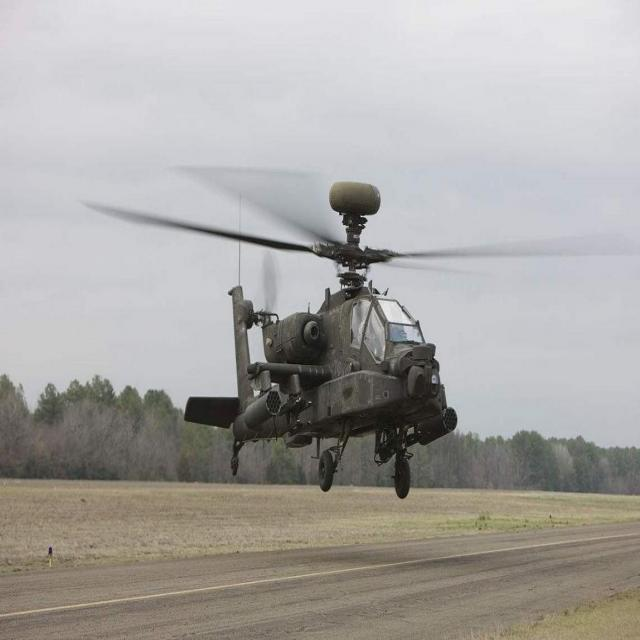MIL_HELO: (93, 154, 629, 498)
